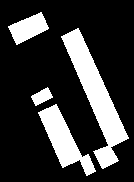parkingspot: (61, 28, 128, 147), (38, 104, 82, 167), (8, 12, 48, 44), (93, 145, 118, 168), (31, 87, 52, 105), (79, 154, 95, 175)
